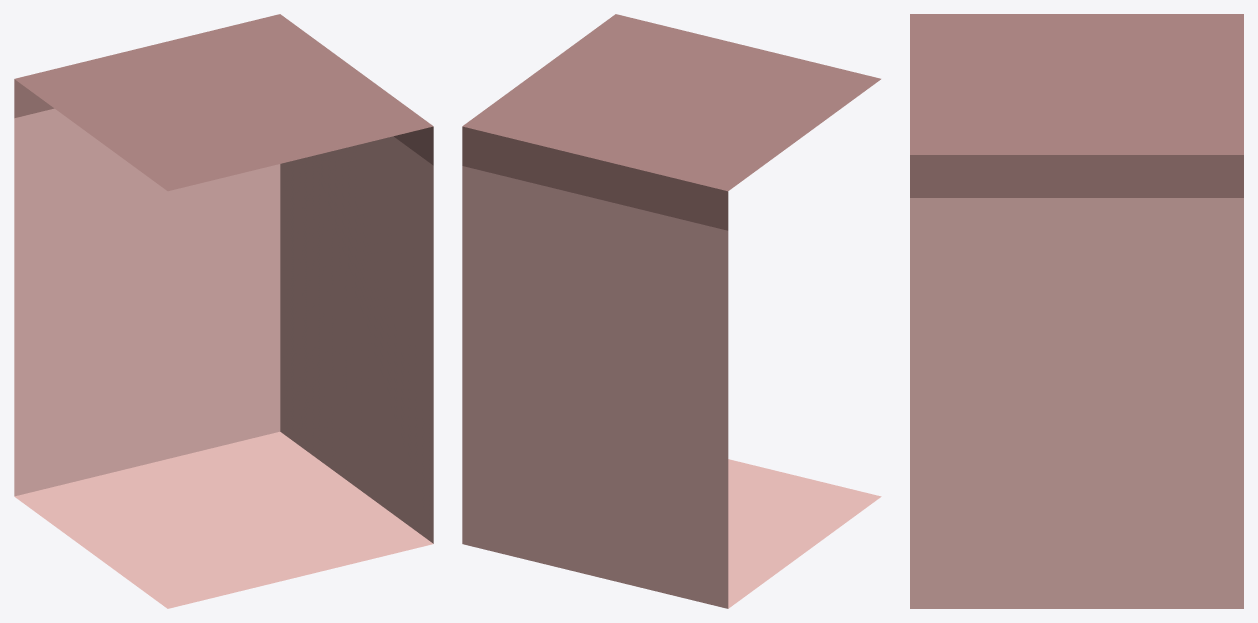
The model's file is Wall_Corner_Ceiling.fbx.
3 views of the same model, side by side, from view 1: azimuth 30°, elevation 25°; view 2: azimuth 150°, elevation 25°; view 3: azimuth 270°, elevation 25° (orthographic). The views are drawn at different scales.
Visible parts, largest first — view 1: Wall_Corner_Ceiling; view 2: Wall_Corner_Ceiling; view 3: Wall_Corner_Ceiling.
Boxes of the visible parts, left/top/right/bottom form: Wall_Corner_Ceiling: left=14, top=14, right=433, bottom=608; Wall_Corner_Ceiling: left=462, top=14, right=881, bottom=608; Wall_Corner_Ceiling: left=910, top=14, right=1243, bottom=608.
Size of the model in its own units: 2 by 3 by 2.
